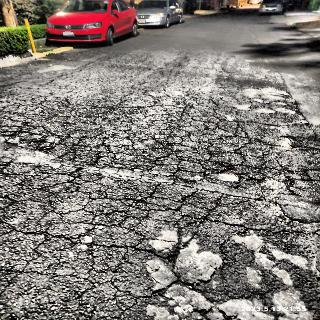alligator-crack: (4, 93, 303, 186), (6, 184, 186, 320), (196, 190, 320, 240)
crack: (202, 238, 319, 320)
